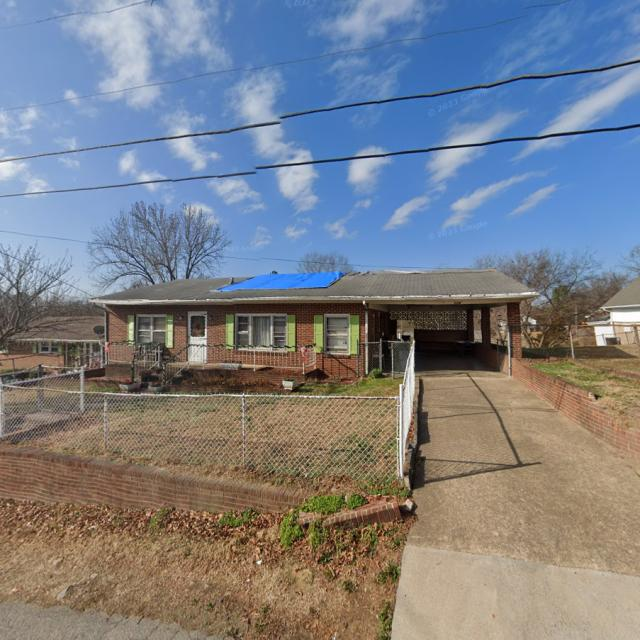House: (88, 268, 540, 381), (1, 316, 108, 372), (584, 274, 638, 344)
